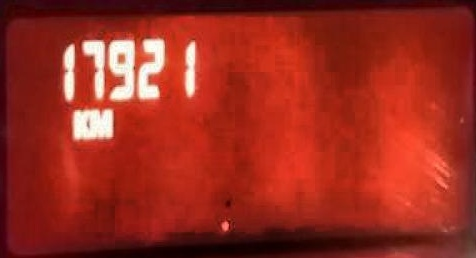1: (177, 28, 200, 103), (57, 33, 74, 105)
2: (137, 35, 167, 100)
7: (80, 33, 106, 100)
9: (107, 35, 133, 103)
X: (89, 107, 112, 138), (71, 106, 88, 140)
